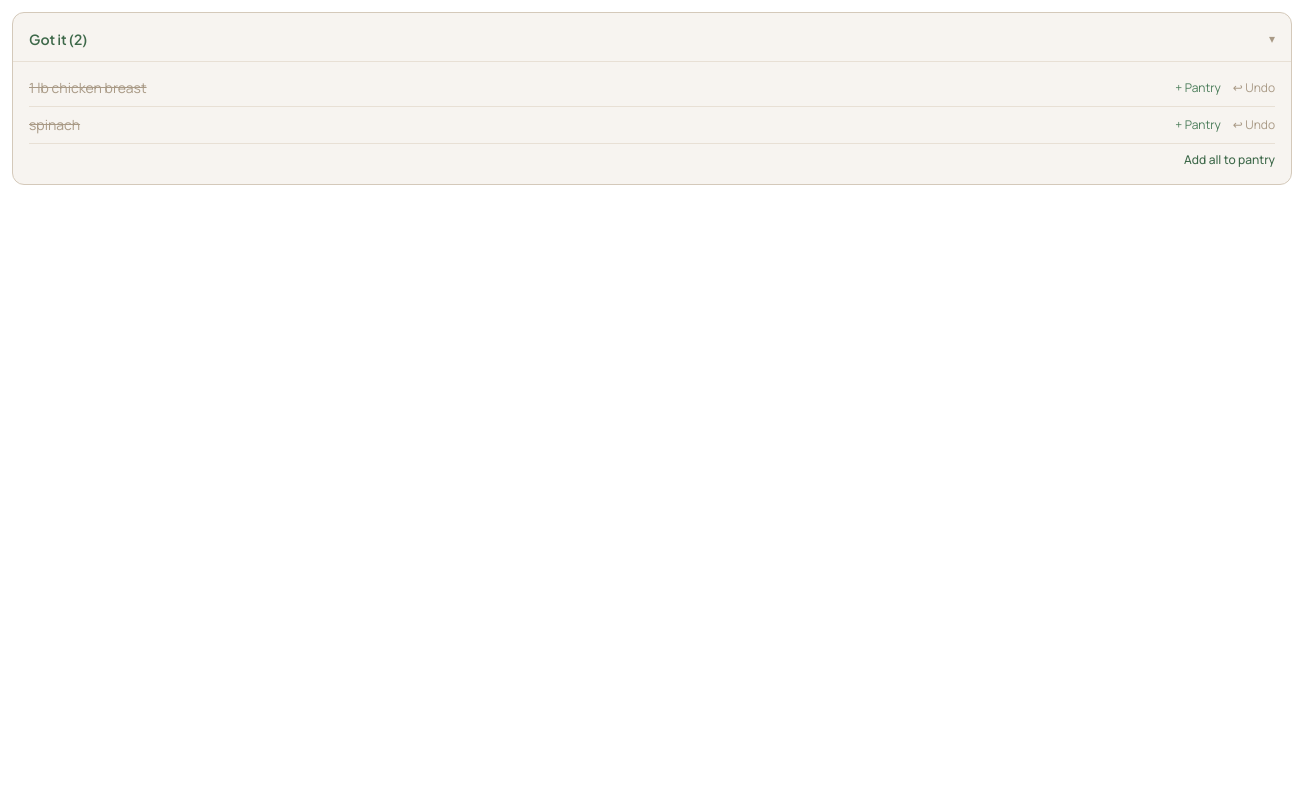
Test: T19 - Add to pantry from Got It section calls POST /api/pantry/import › shows a brief success toast after adding
This screenshot has width=1304, height=812.
Click the button labelled "+ Pantry" in the row of "1 lb chicken breast". click: (1198, 88)
box: [1175,80,1221,96]
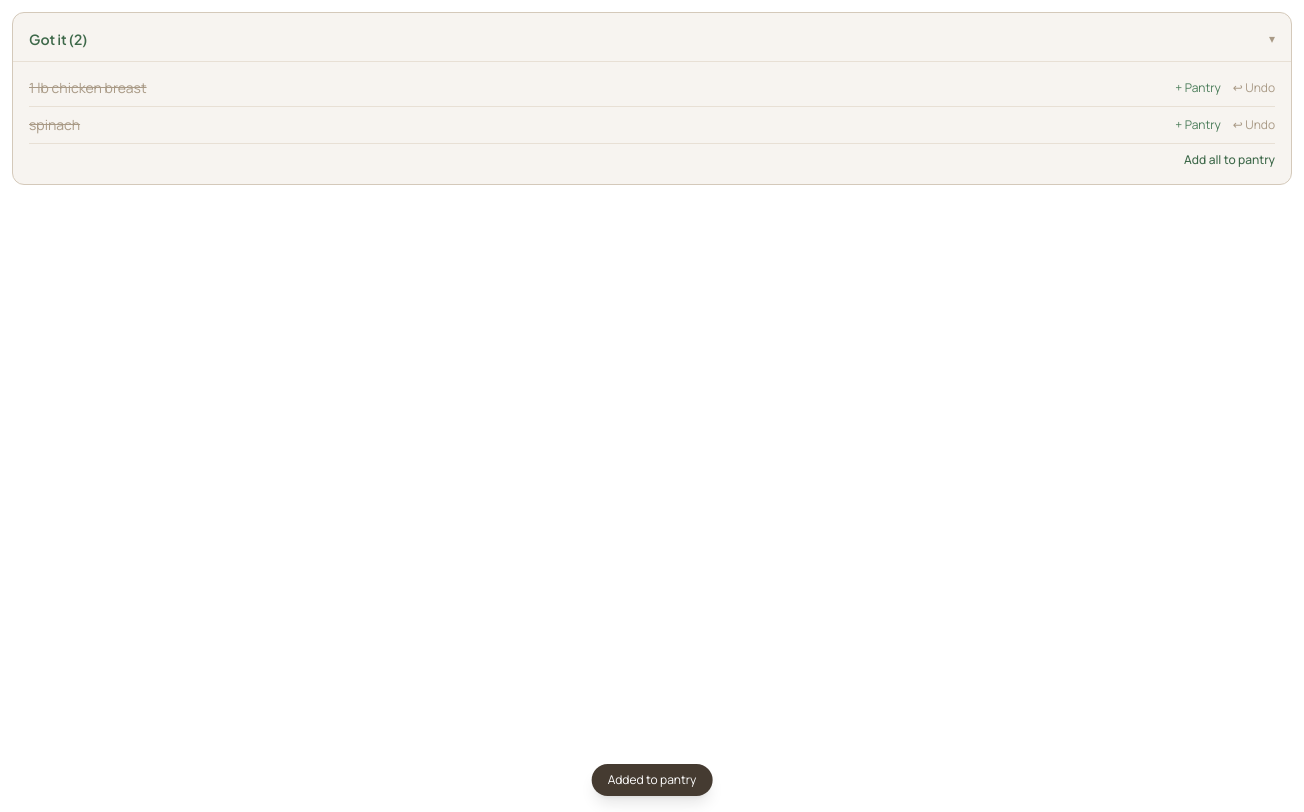
Check: the text "Added to pantry" is shown, box [592,764,712,796]
